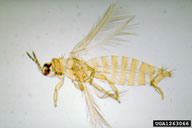Thrips: (26, 38, 179, 108)
